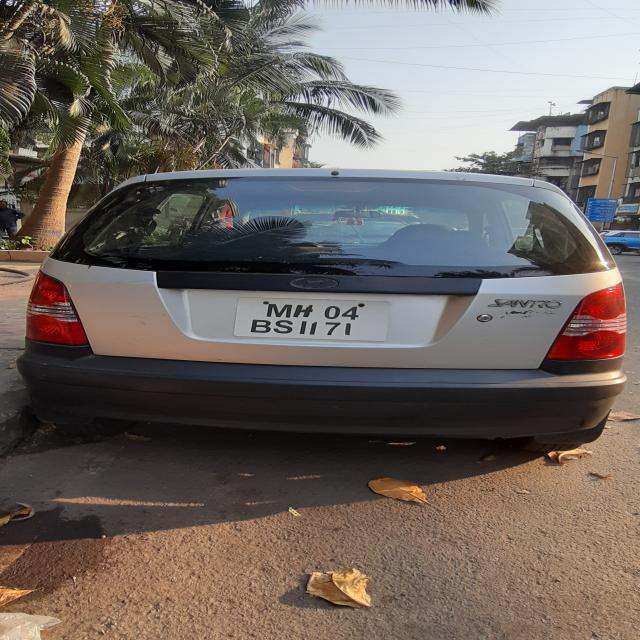Number-Plate: (232, 296, 392, 341)
